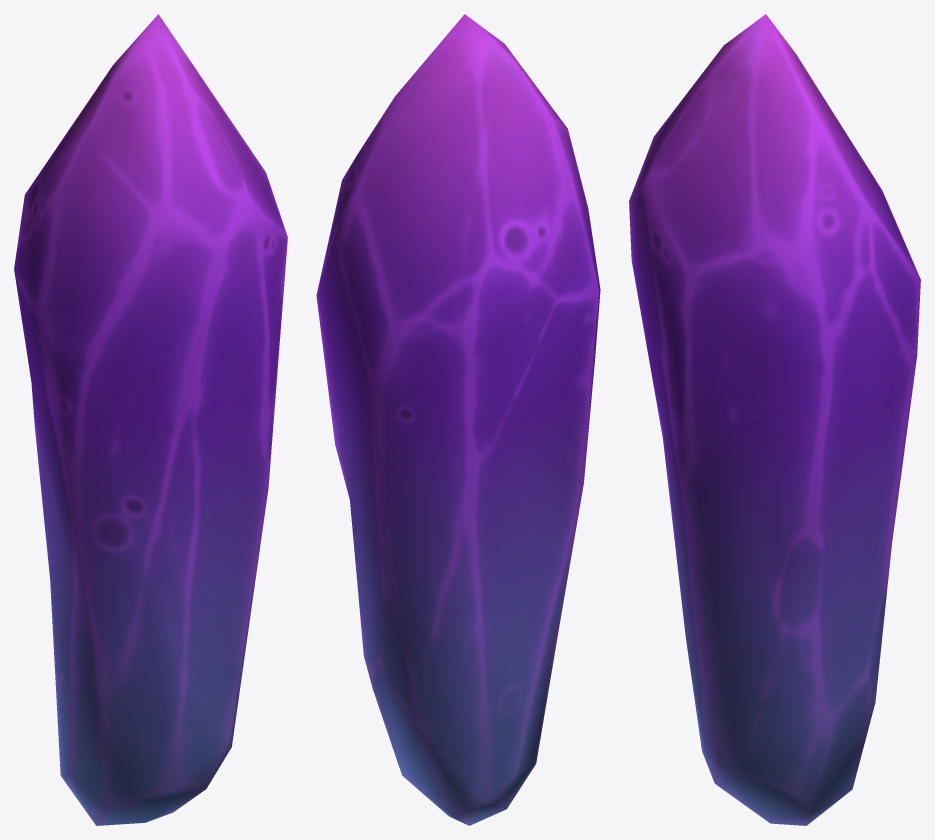
Rendered from Cristal_2.fbx.
3 renders of one model, left to right at view 1: azimuth 30°, elevation 25°; view 2: azimuth 150°, elevation 25°; view 3: azimuth 270°, elevation 25°, orthographic. The views are drawn at different scales.
Parts seen in each view (by area): view 1: LP.003; view 2: LP.003; view 3: LP.003.
Boxes of the visible parts, box(x1,y1,x2,y2) form: LP.003: box(14, 14, 287, 825); LP.003: box(316, 14, 600, 825); LP.003: box(629, 14, 920, 825).
Bounding box in the file's own units: 171 × 534 × 173.
